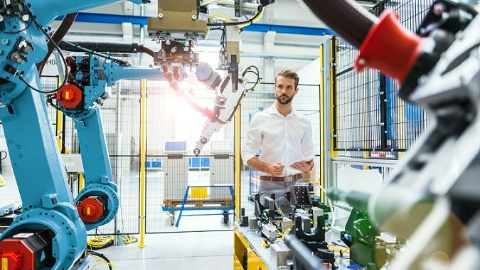person: (241, 68, 317, 218)
robot: (1, 1, 277, 270), (54, 49, 262, 229)
